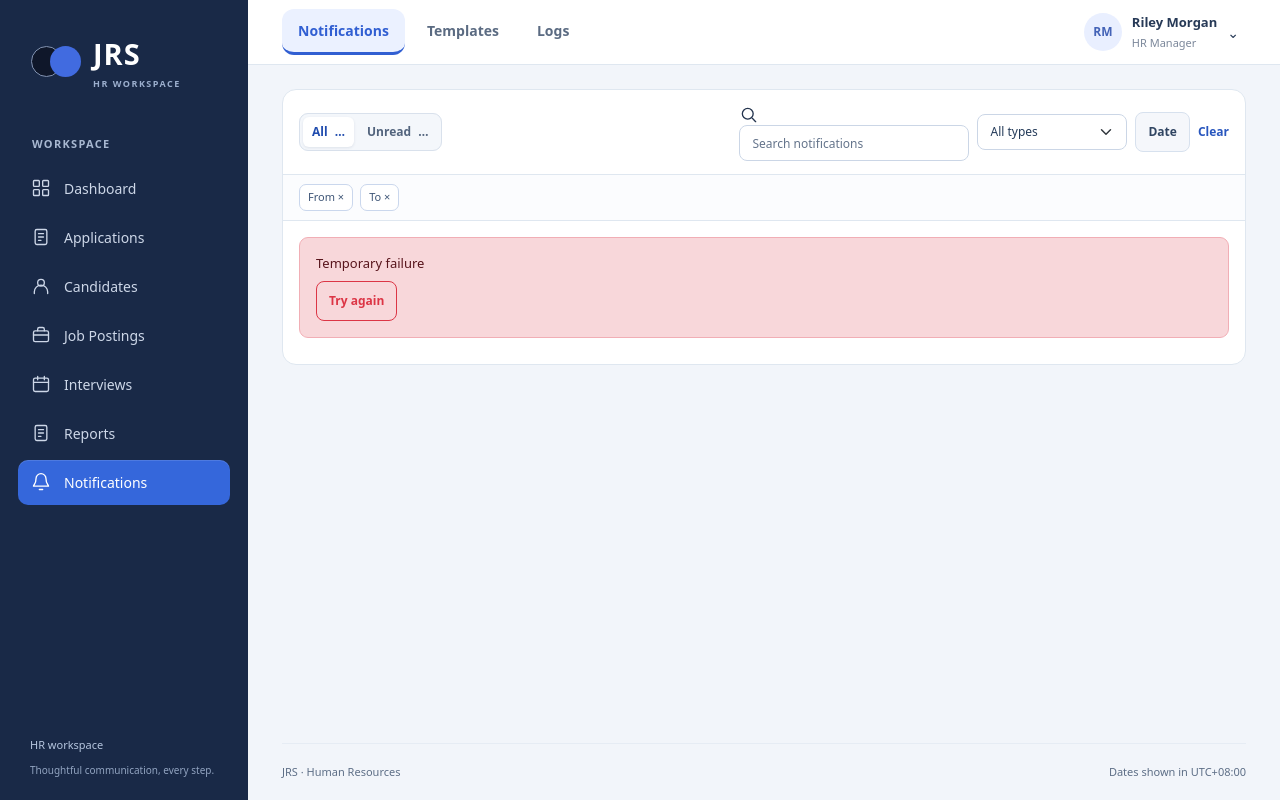
Test case: notification workflow › shows a fetch error and reloads on retry
Expected: the message shows "Temporary failure", top-left (316, 254), bottom-right (424, 272)
Click the button "Try again". click: (357, 301)
box: top-left (316, 281), bottom-right (397, 321)
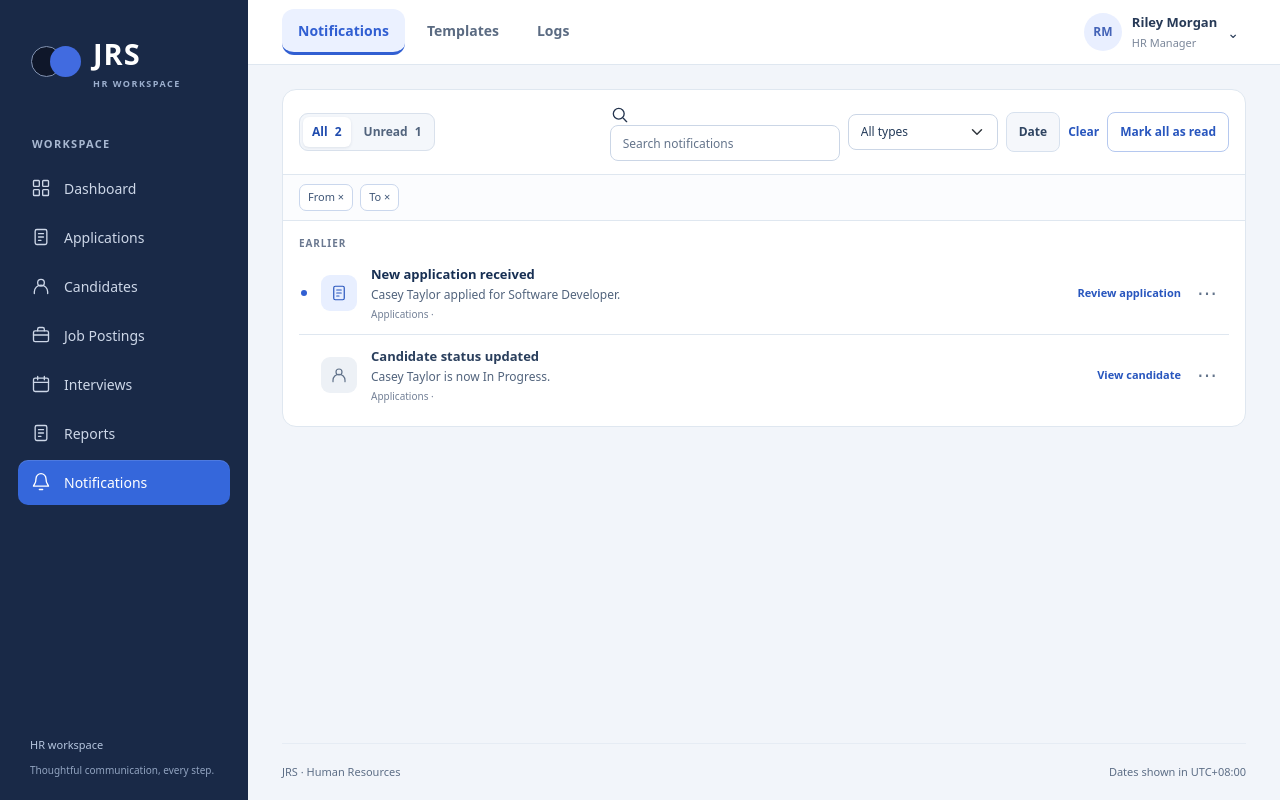
Expected: the text "New application received" is shown, top-left (371, 265), bottom-right (535, 283)
